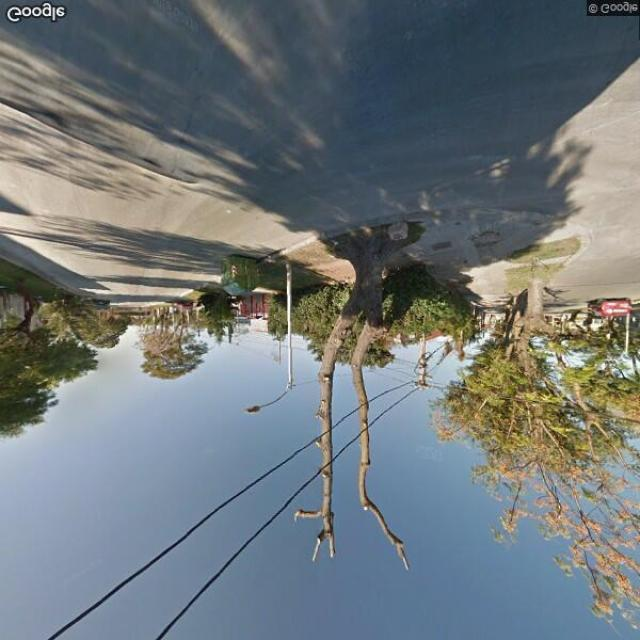garbage container: (216, 245, 271, 303)
